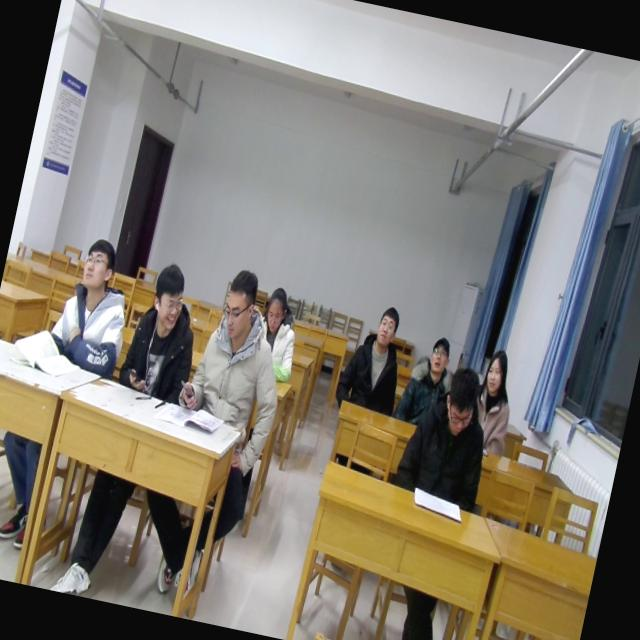down: (435, 362, 487, 443), (258, 282, 292, 334)
lookup: (215, 264, 266, 346), (76, 227, 120, 293), (369, 301, 405, 353), (479, 344, 513, 396), (421, 328, 456, 377)
sit: (172, 259, 306, 436), (389, 356, 503, 514), (40, 227, 144, 384), (113, 257, 212, 406), (333, 296, 415, 418), (463, 343, 525, 458), (393, 329, 463, 430), (250, 284, 310, 384)
